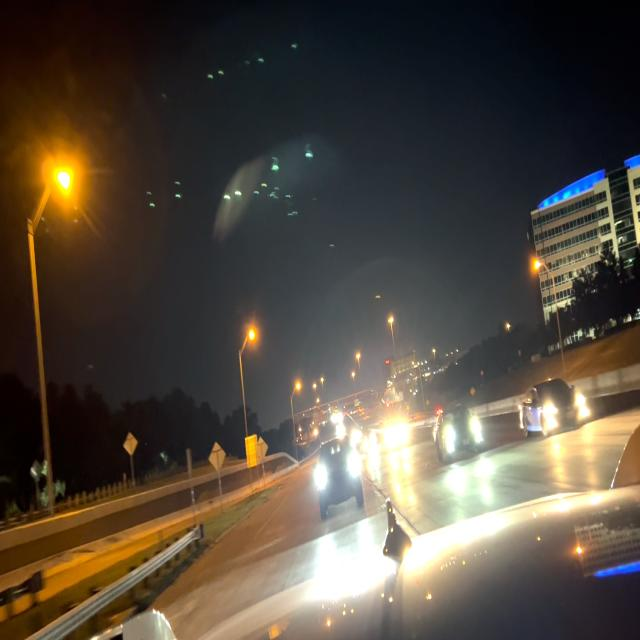back-of-sign: (209, 443, 225, 470)
